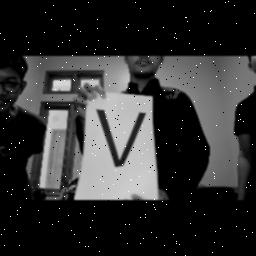v: (94, 102, 152, 170)
